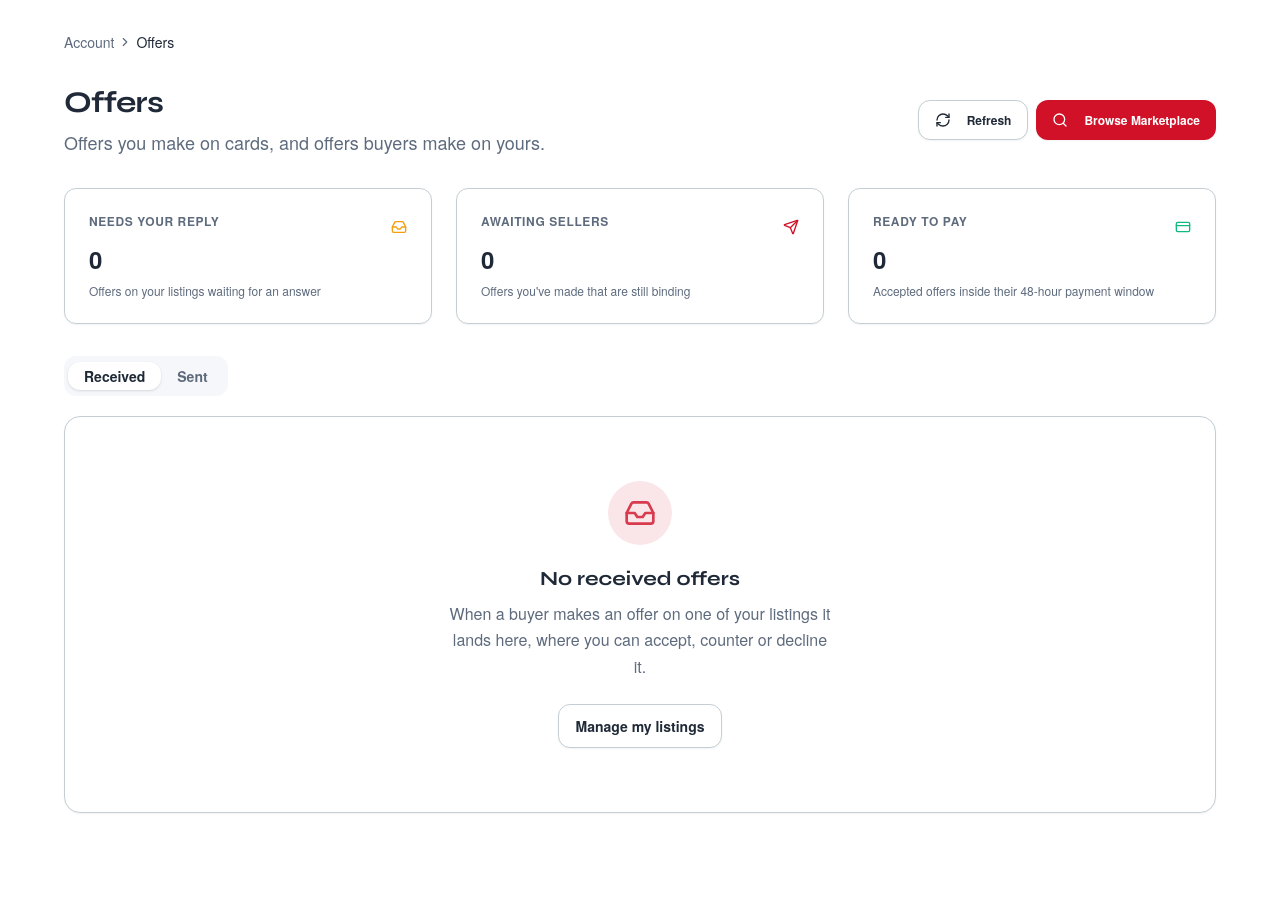
it: AccountOffers — account-section layout › shows a tailored empty state with a next step on each tab
The image size is (1280, 900).
expect the heading "No received offers" is shown: met, box [540, 566, 740, 591]
What coordinates should you click on to do the following:
click the tab "Sent"
I would click on:
 (192, 376)
Its box is [161, 362, 224, 390].
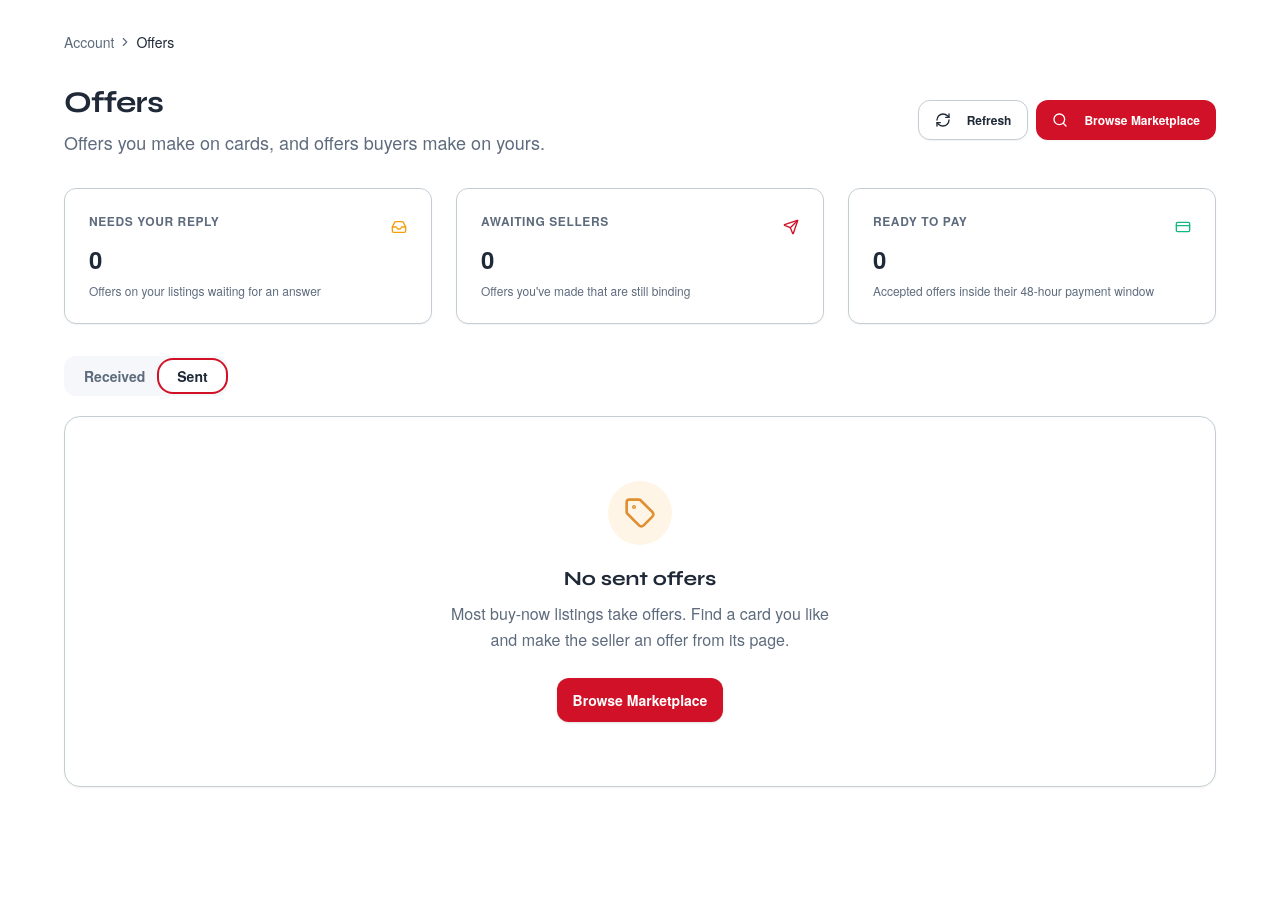
expect the heading "No sent offers" is shown: met, box [564, 566, 716, 591]
